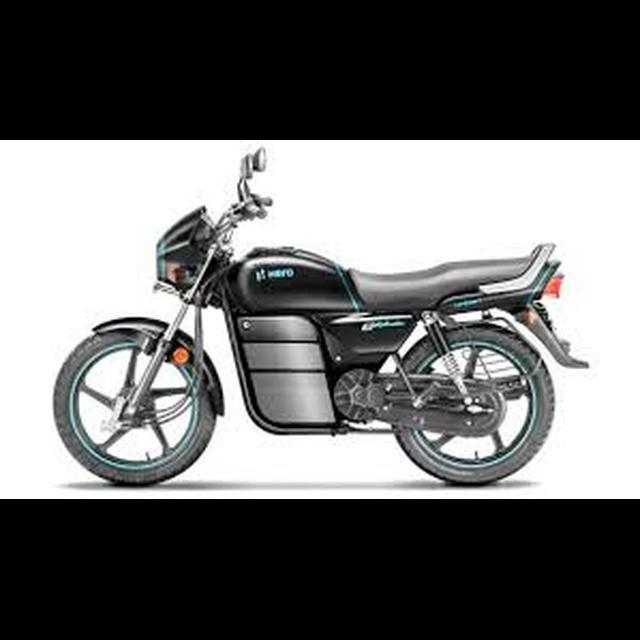motorcycle: (49, 141, 591, 492)
